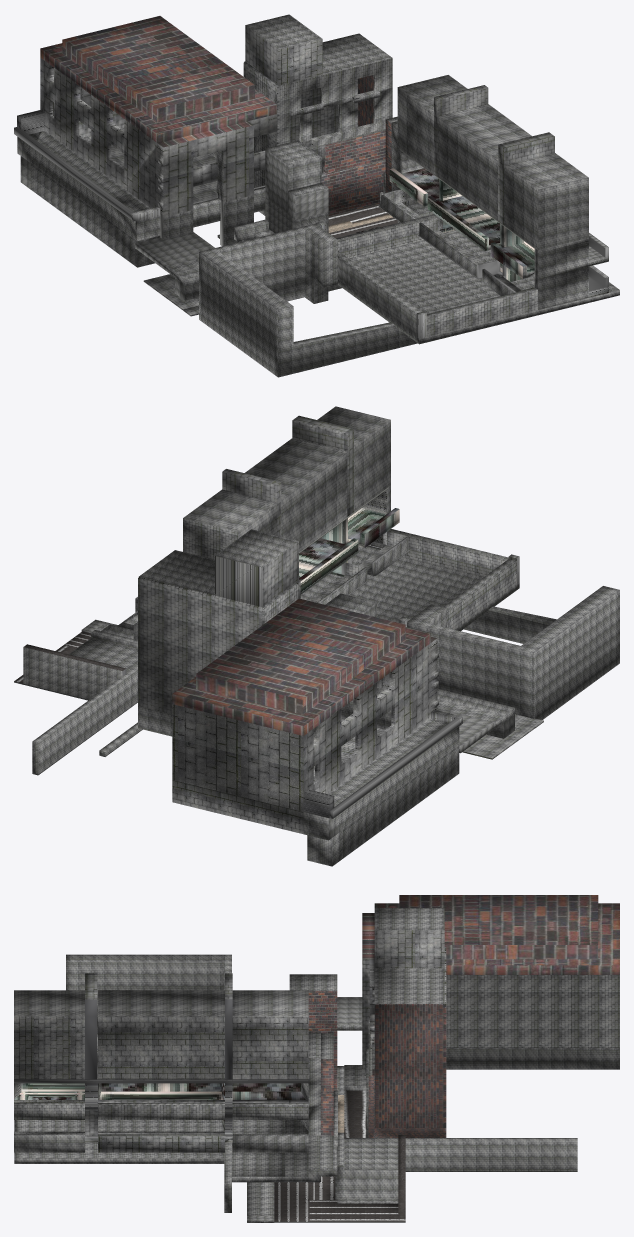
The model's file is decor.obj.
The picture shows the model from 3 angles, top to bottom: view 1: azimuth 30°, elevation 25°; view 2: azimuth 150°, elevation 25°; view 3: azimuth 270°, elevation 25°; orthographic projection. The views are drawn at different scales.
Visible parts, largest first — view 1: Cube.008; view 2: Cube.008; view 3: Cube.008.
Boxes of the visible parts, box(x1,y1,x2,y2) form: Cube.008: box(14, 14, 619, 377); Cube.008: box(14, 406, 619, 866); Cube.008: box(14, 895, 619, 1222).
Size of what is drawn, in the model's own units: 1020 by 444 by 1264.
Materials: 5 (5 with a texture image).
